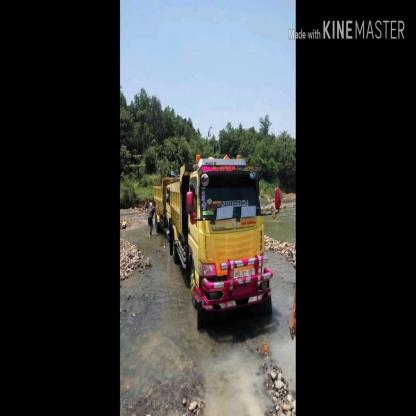truck: (154, 156, 283, 331)
